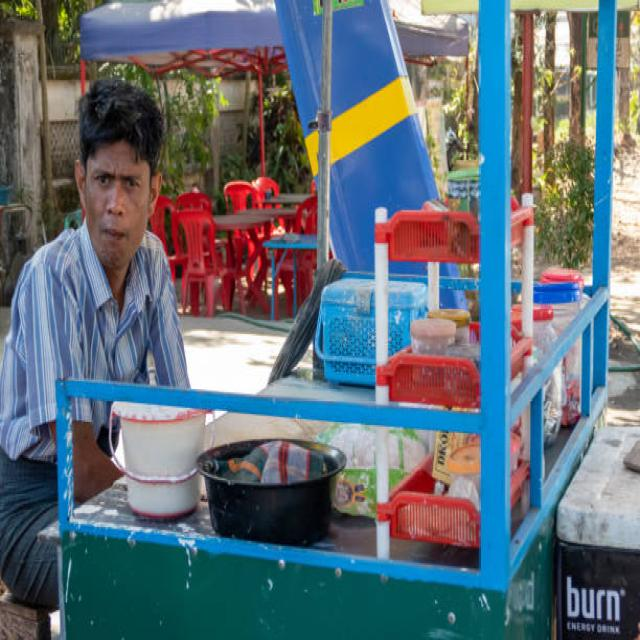Emperan: (57, 1, 620, 640)
